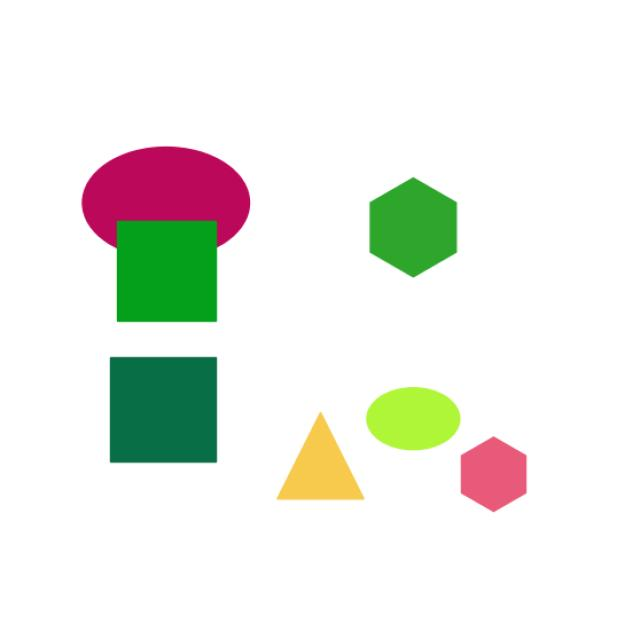Hexagon: (347, 169, 487, 290), (453, 430, 566, 522)
Oval: (73, 139, 273, 253), (354, 382, 478, 455)
Triangle: (266, 399, 382, 527)
square: (99, 345, 234, 475), (106, 206, 235, 332)
